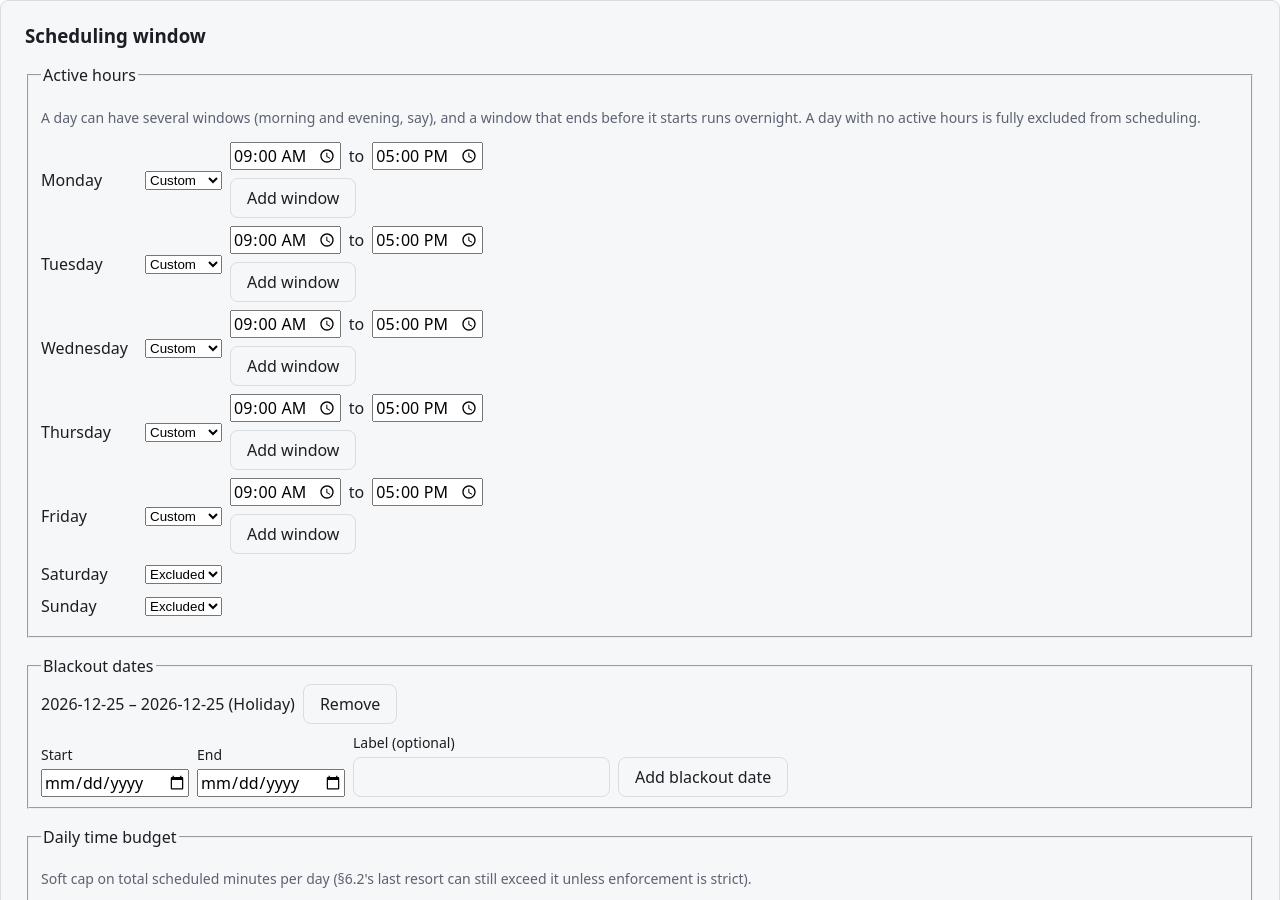
Test: SchedulingWindowSection › removes a blackout date
Click the button with aria-label "remove blackout date 1".
click(350, 704)  # box [303,684,397,724]
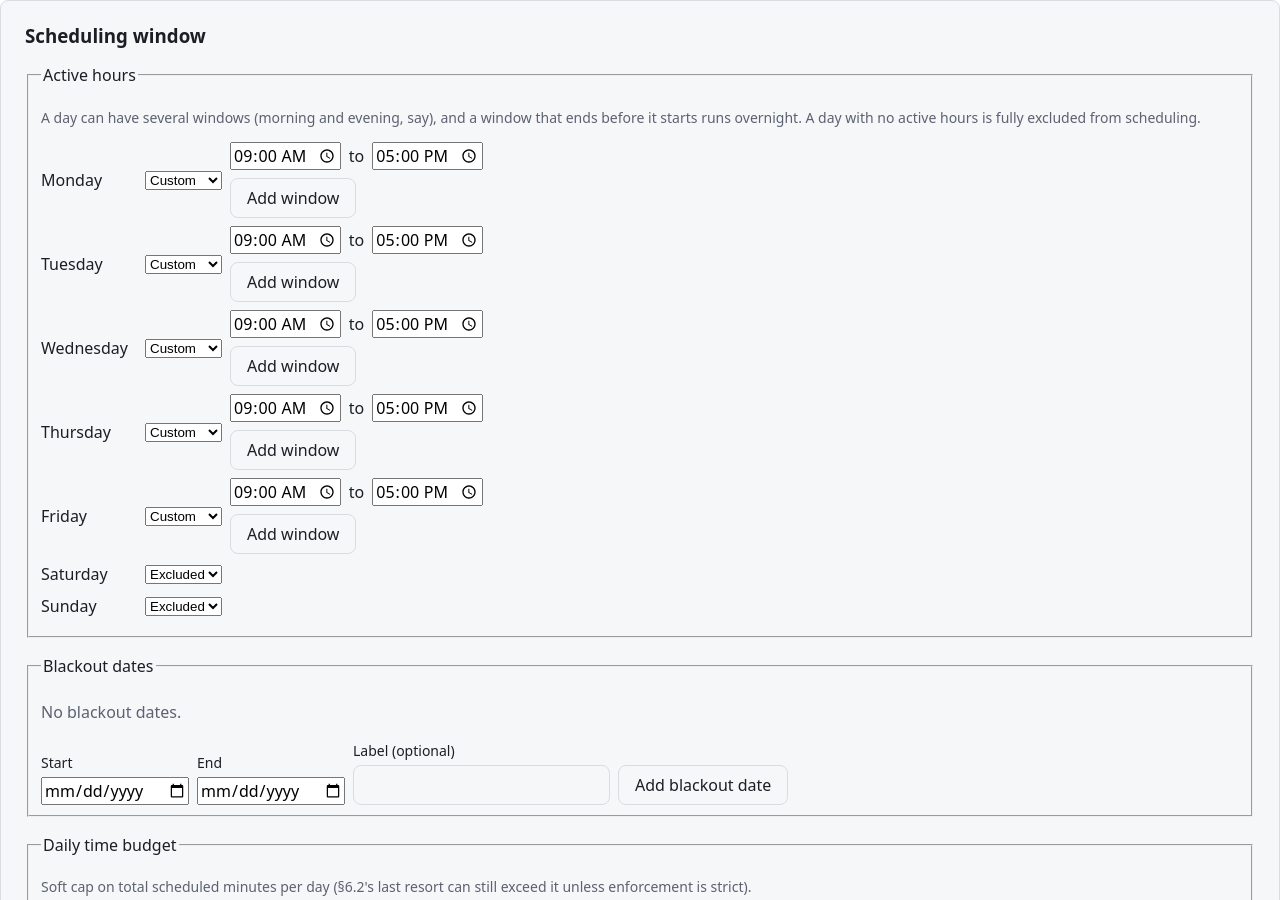
Now the text "Holiday" is gone
